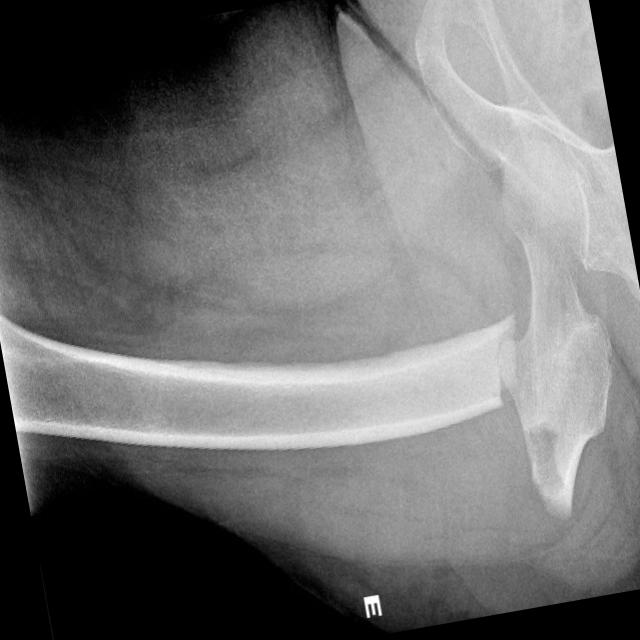left-subtrochanteric: (497, 138, 612, 516), (427, 314, 516, 429)
